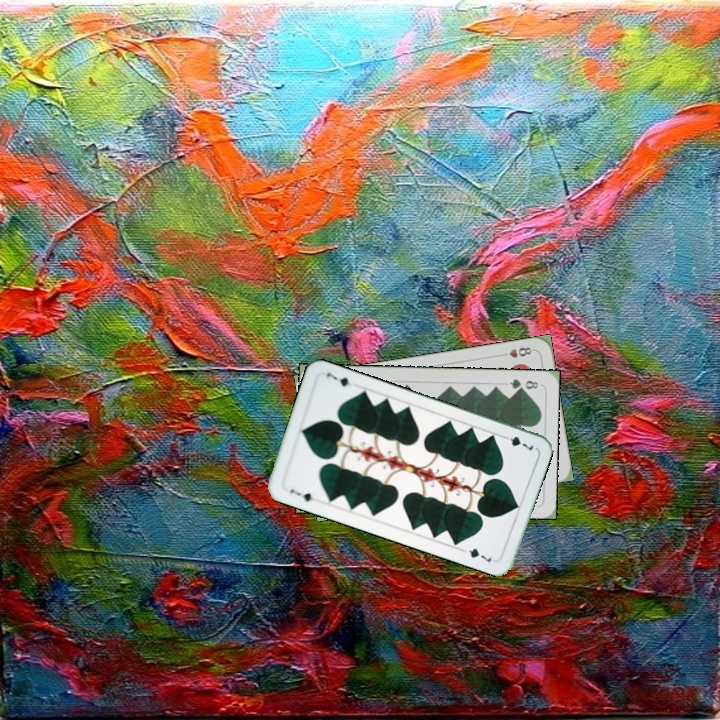G7: (498, 431, 536, 453), (285, 485, 315, 504)
G8: (506, 375, 541, 393)
H8: (496, 343, 537, 360)
